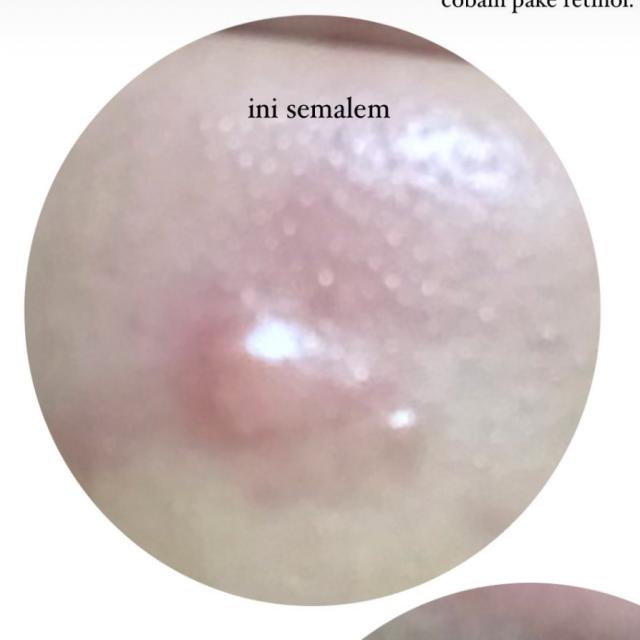nodule: (196, 321, 367, 441)
